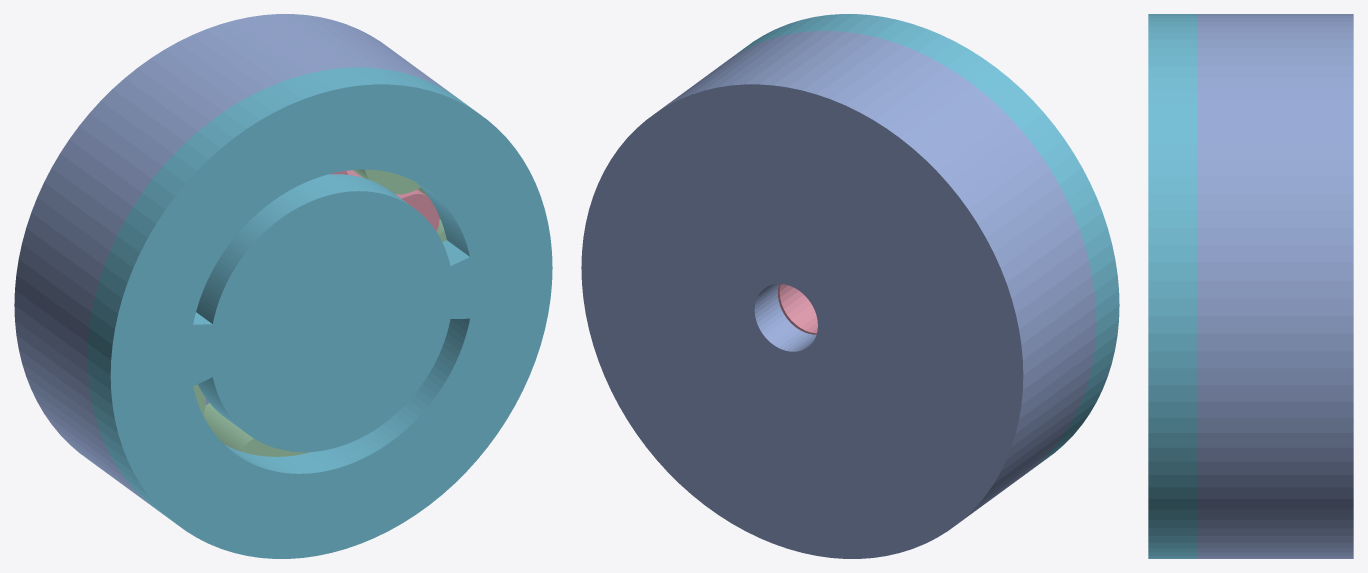
The model's file is gerotor_pump_demo.glb.
3 views of the same model, side by side, from view 1: azimuth 30°, elevation 25°; view 2: azimuth 150°, elevation 25°; view 3: azimuth 270°, elevation 25° (orthographic). The views are drawn at different scales.
Parts seen in each view (by area): view 1: gerotor_port_cap, gerotor_housing, gerotor_outer_rotor, gerotor_inner_rotor; view 2: gerotor_housing, gerotor_port_cap, gerotor_inner_rotor; view 3: gerotor_housing, gerotor_port_cap.
Boxes of the visible parts, <box> form: gerotor_port_cap: <box>87,67,552,558</box>; gerotor_housing: <box>14,14,452,505</box>; gerotor_outer_rotor: <box>193,169,446,456</box>; gerotor_inner_rotor: <box>329,170,439,231</box>; gerotor_housing: <box>581,31,1096,558</box>; gerotor_port_cap: <box>732,14,1119,469</box>; gerotor_inner_rotor: <box>778,284,817,334</box>; gerotor_housing: <box>1197,14,1353,558</box>; gerotor_port_cap: <box>1148,14,1197,558</box>.
Bounding box in the file's own units: 44 × 44 × 16.6.
